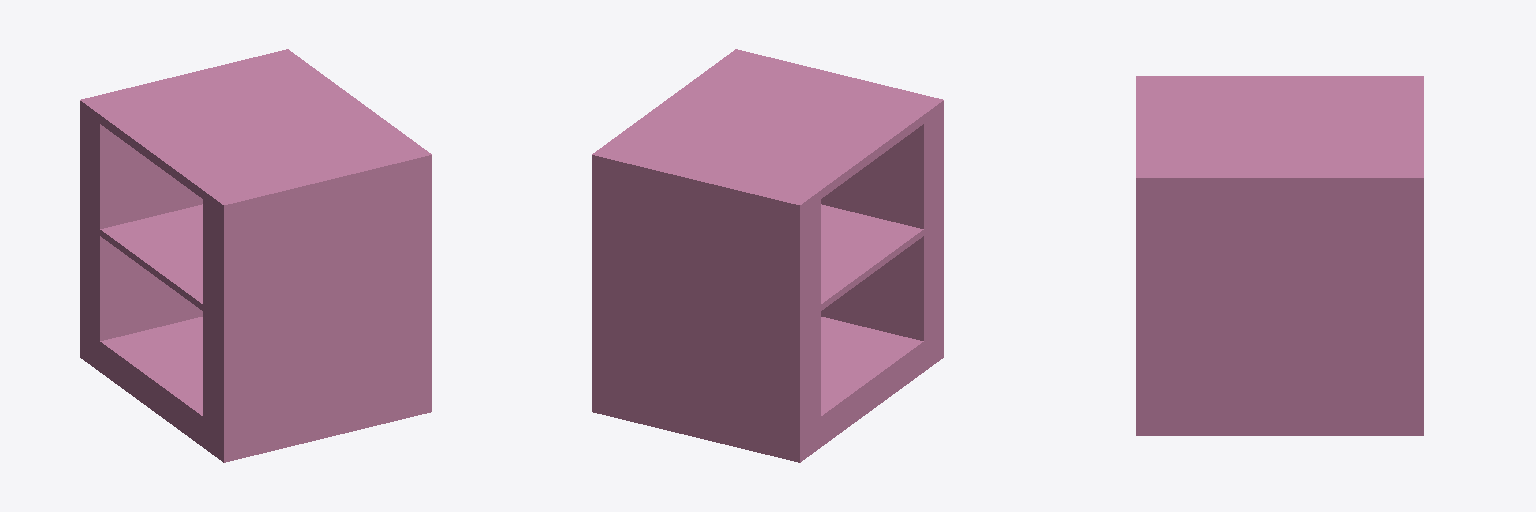
3 renders of one model, left to right at view 1: azimuth 30°, elevation 25°; view 2: azimuth 150°, elevation 25°; view 3: azimuth 270°, elevation 25°, orthographic.
Parts seen in each view (by area): view 1: Moda_Collection:E_Moda_EndTable; view 2: Moda_Collection:E_Moda_EndTable; view 3: Moda_Collection:E_Moda_EndTable.
Boxes of the visible parts, box(x1,y1,x2,y2) form: Moda_Collection:E_Moda_EndTable: box(80, 49, 431, 462); Moda_Collection:E_Moda_EndTable: box(592, 49, 943, 462); Moda_Collection:E_Moda_EndTable: box(1136, 76, 1423, 435).
Bounding box in the file's own units: 3.11 × 3.67 × 3.73.
Materials: 1 (1 with a texture image).